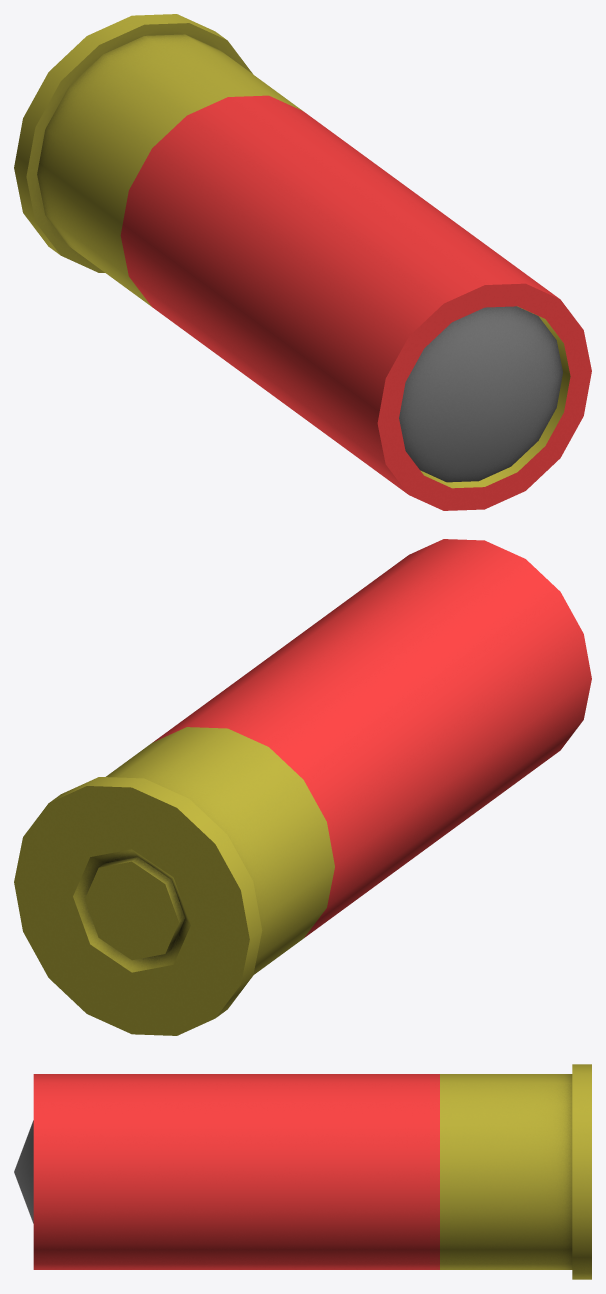
Rendered from shotgun_shell_large.fbx.
3 renders of one model, top to bottom at view 1: azimuth 30°, elevation 25°; view 2: azimuth 150°, elevation 25°; view 3: azimuth 270°, elevation 25°, orthographic. The views are drawn at different scales.
Parts seen in each view (by area): view 1: shotgun_shell_large, shotgun_shell_large_powder; view 2: shotgun_shell_large; view 3: shotgun_shell_large, shotgun_shell_large_powder.
Boxes of the visible parts, box(x1,y1,x2,y2) form: shotgun_shell_large: box(14, 14, 591, 510); shotgun_shell_large_powder: box(399, 306, 562, 482); shotgun_shell_large: box(14, 539, 591, 1035); shotgun_shell_large: box(33, 1064, 591, 1279); shotgun_shell_large_powder: box(14, 1120, 33, 1223).
Bounding box in the file's own units: 5.5 × 5.5 × 14.75.
